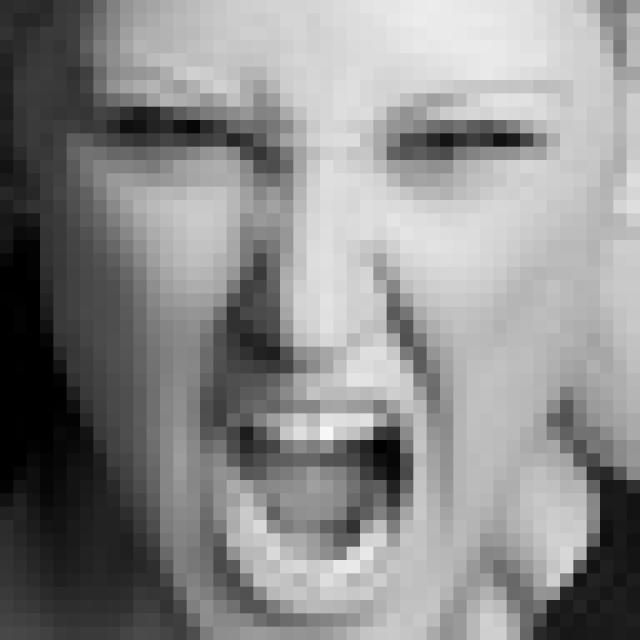angry: (75, 56, 570, 618)
